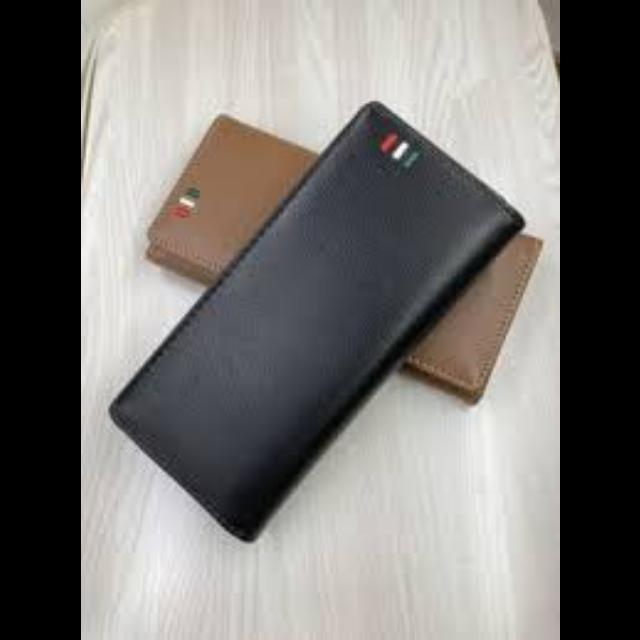Wallet: (109, 100, 524, 544), (146, 112, 544, 408)
